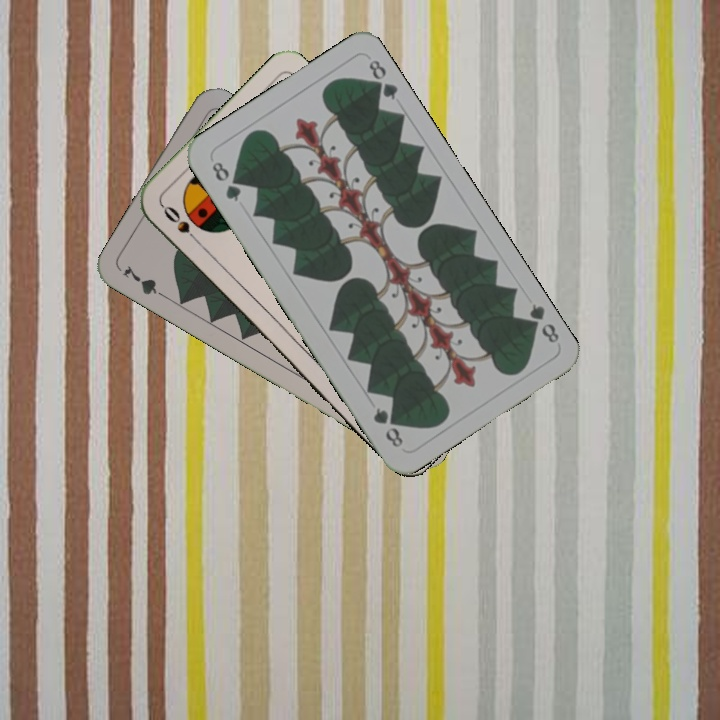G7: (118, 261, 172, 303)
G8: (520, 299, 562, 346), (207, 157, 244, 205)
SO: (158, 201, 204, 248)
